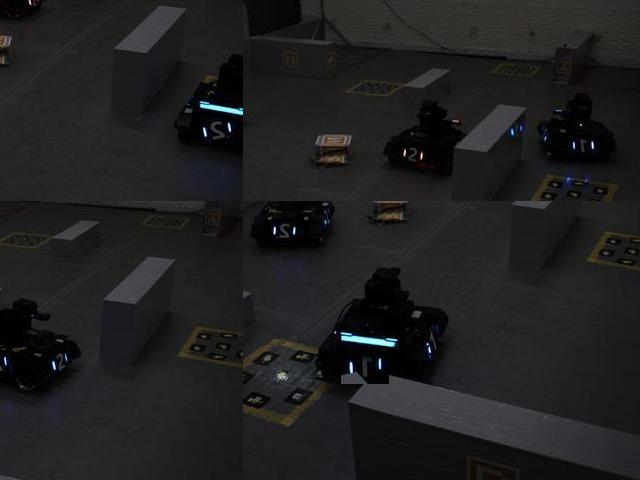armor: (342, 347, 391, 385), (200, 119, 236, 146), (416, 332, 447, 362), (270, 221, 300, 244), (49, 347, 70, 377), (399, 144, 427, 166), (569, 138, 597, 157), (0, 350, 12, 379), (22, 0, 42, 10)
